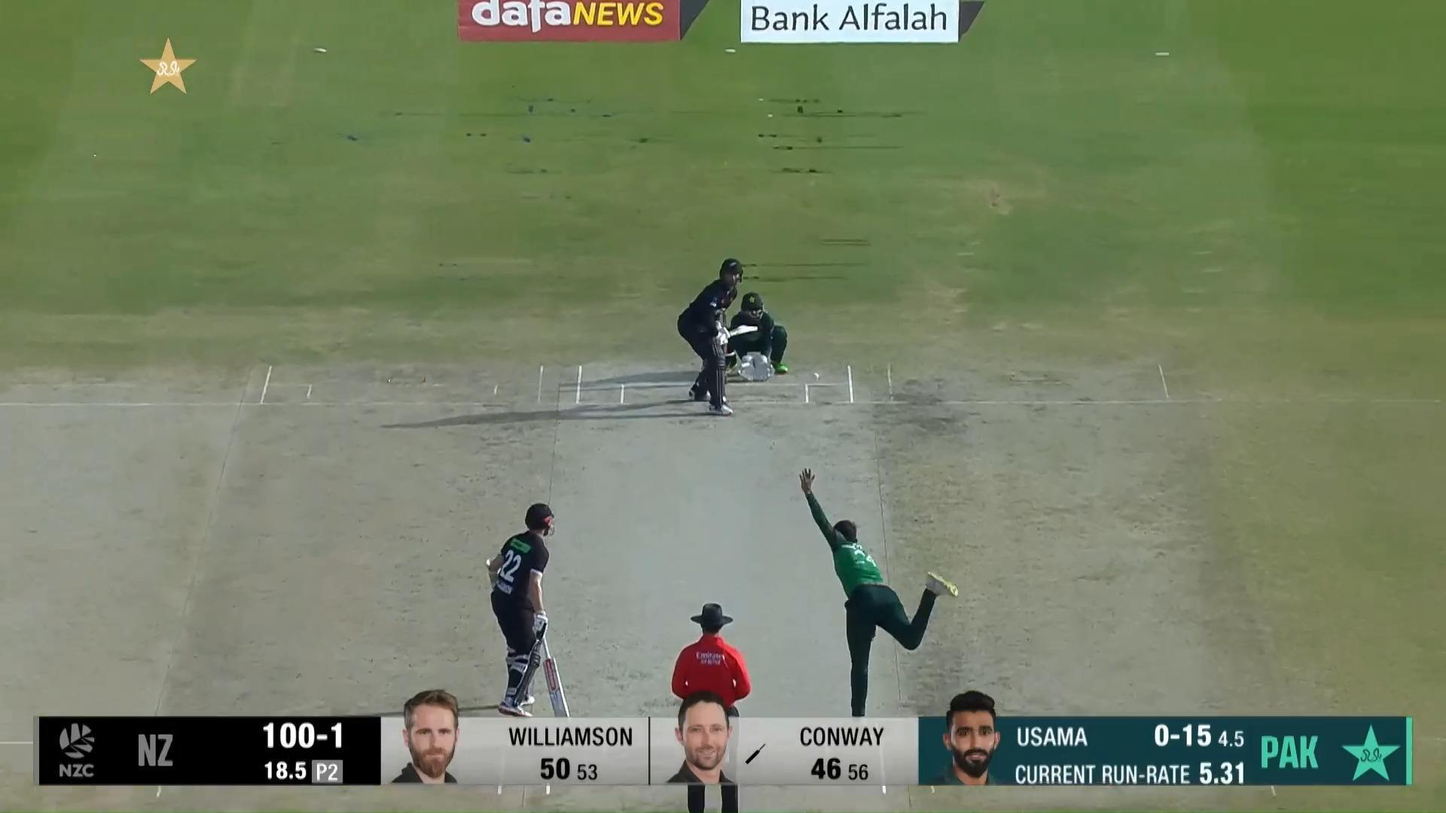BM 1: (677, 258, 760, 417)
BO: (795, 461, 960, 716)
